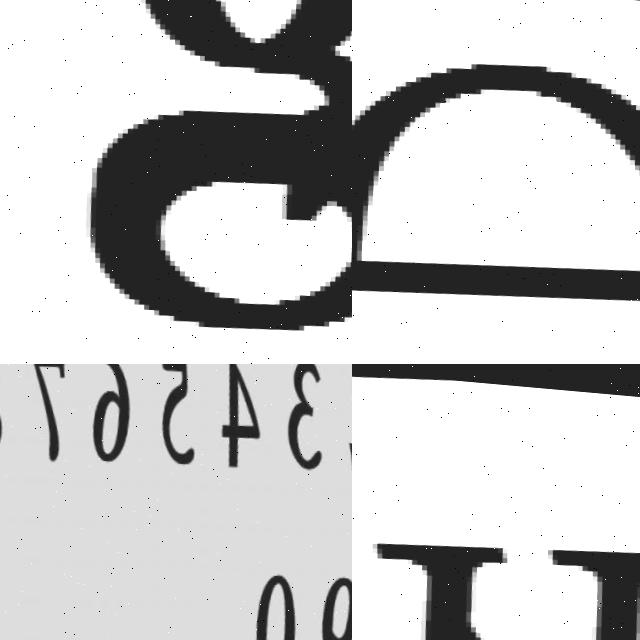0: (246, 550, 320, 640)
3: (277, 364, 346, 468)
4: (207, 364, 285, 474)
5: (136, 364, 223, 475)
6: (74, 364, 157, 477)
7: (10, 364, 89, 481)
8: (0, 364, 31, 483)
9: (312, 549, 352, 640)
E: (352, 59, 640, 298)
G: (35, 0, 352, 348)
W: (352, 484, 640, 640)
